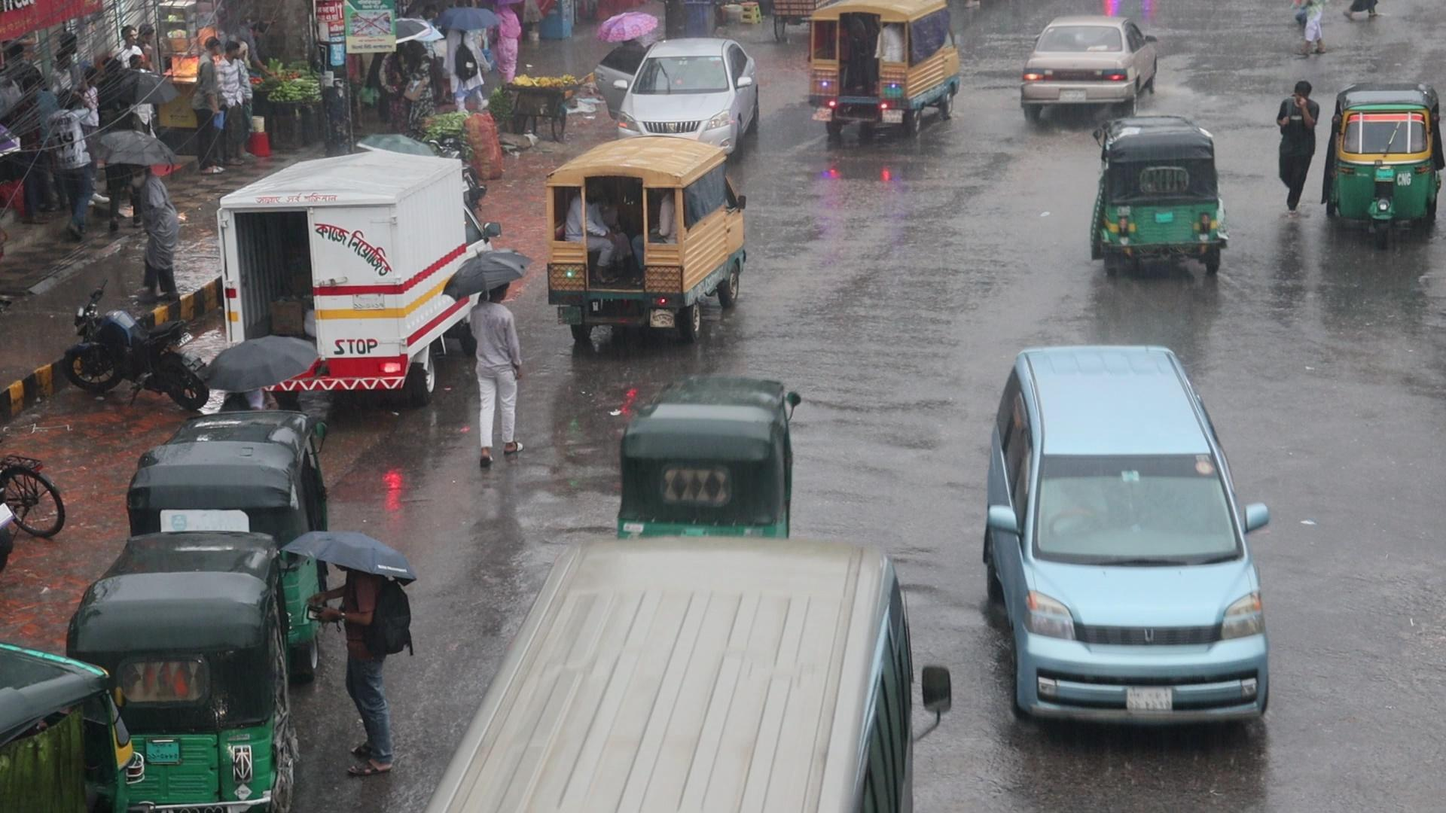Car: (978, 338, 1277, 743), (1020, 5, 1165, 135), (619, 29, 762, 155)
Truck: (533, 134, 744, 353), (798, 0, 969, 145)
